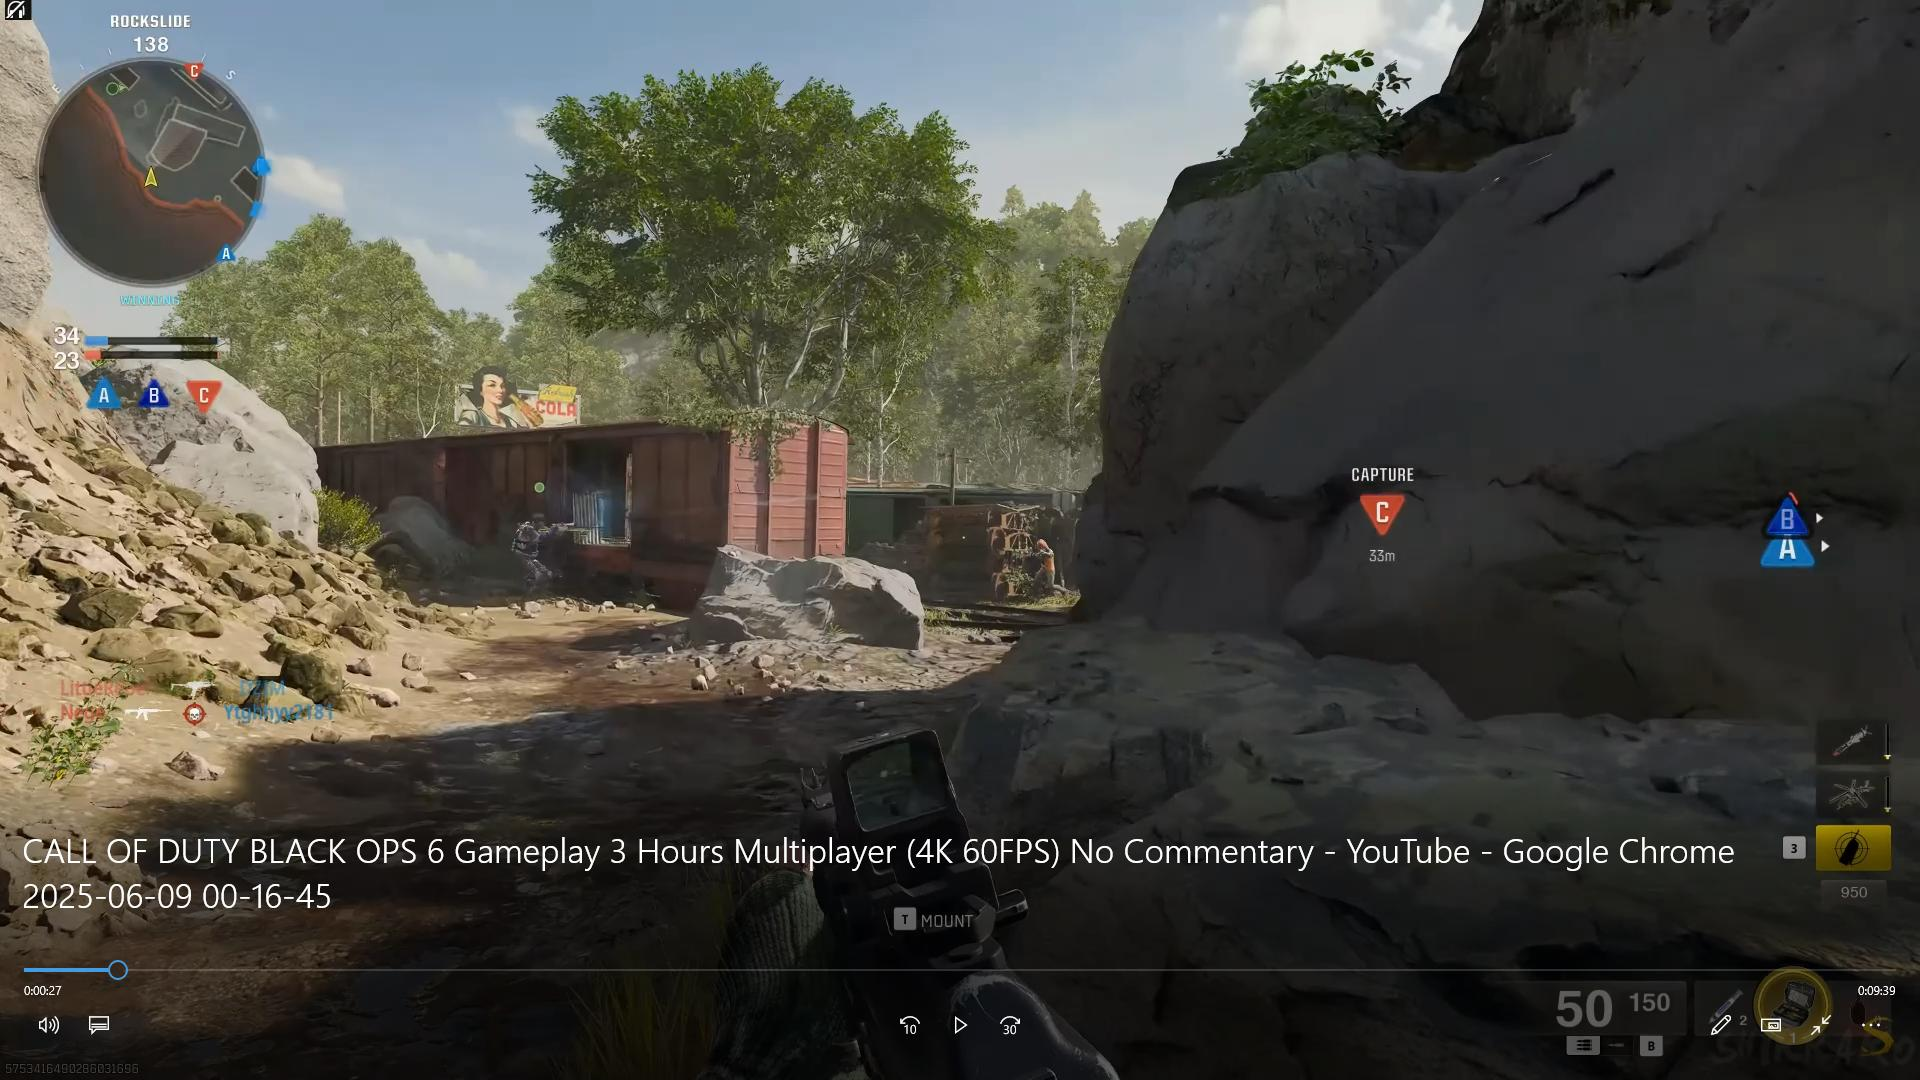Enemy: (497, 506, 584, 591), (1017, 527, 1065, 604)
